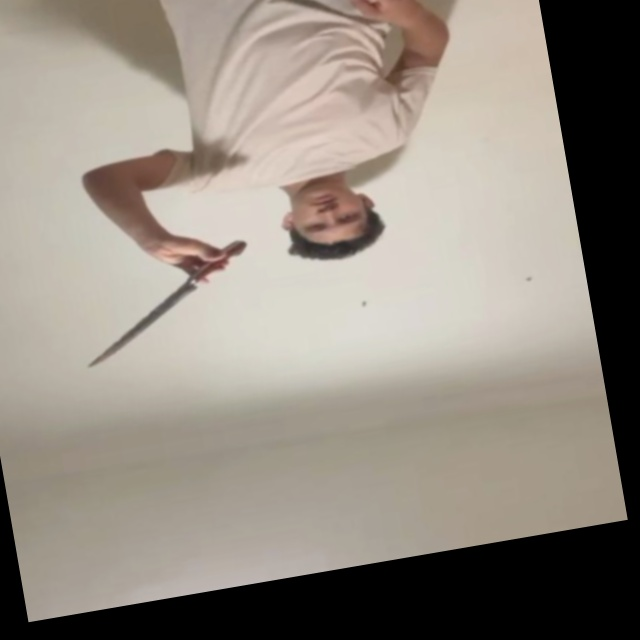Sharp-Object: (78, 283, 202, 368)
